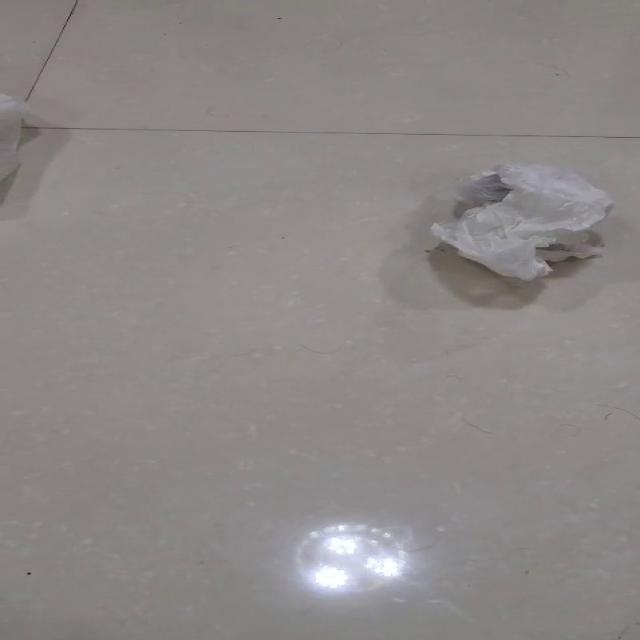plastic: (428, 161, 614, 281)
